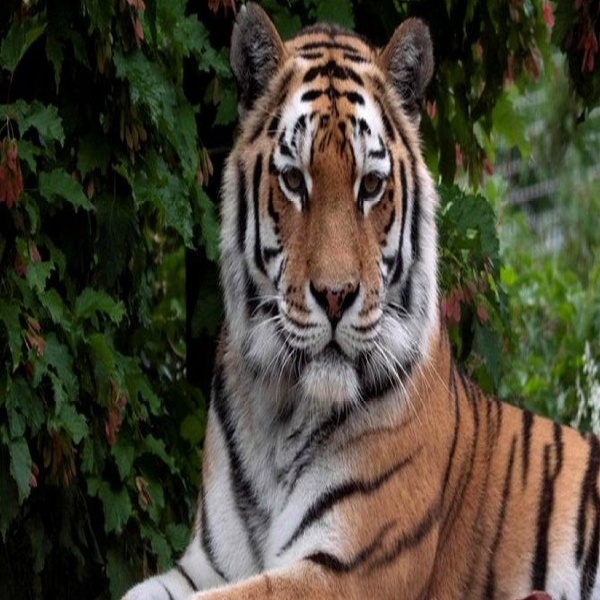Tiger: (115, 4, 597, 597)
